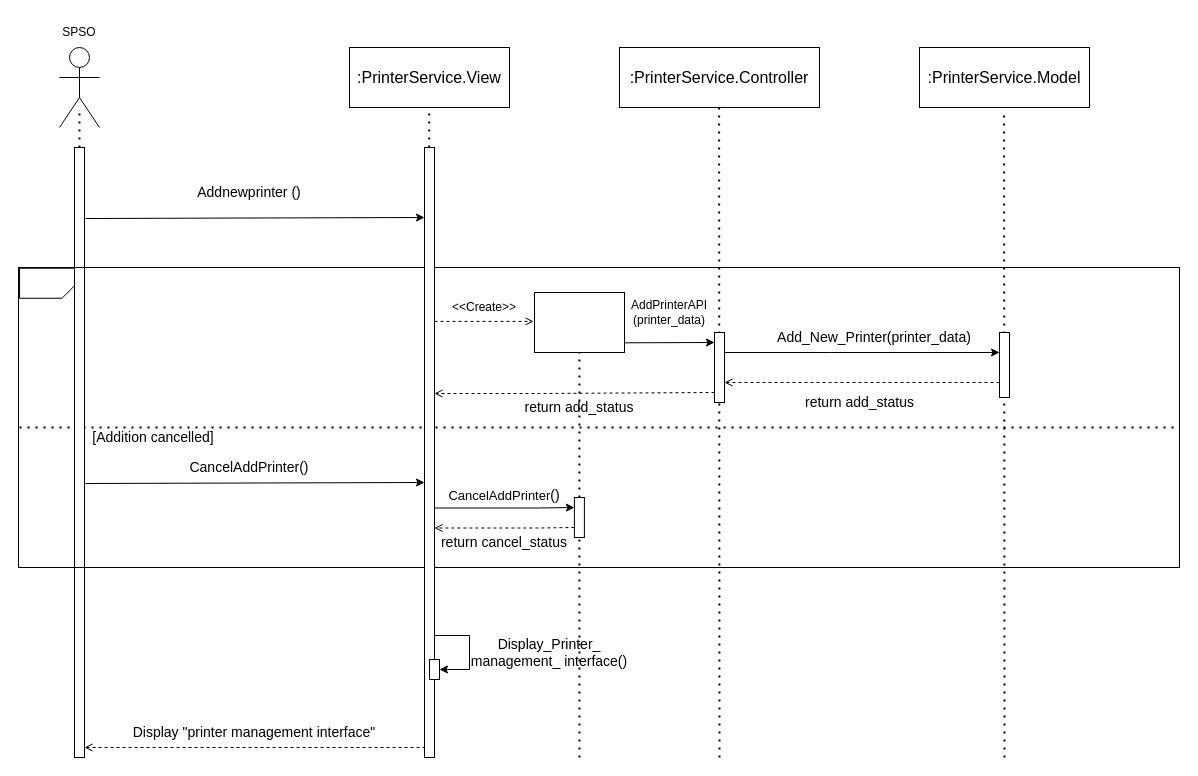
Image size: 1198x776. Some labels were removed from this diagram. The shapes that lost their labels are listed below. From the top down, each one's centre as x and y in pixels, then its label:
At point (47, 282): "Alt".
At point (579, 322): ":Printer Configuration".
